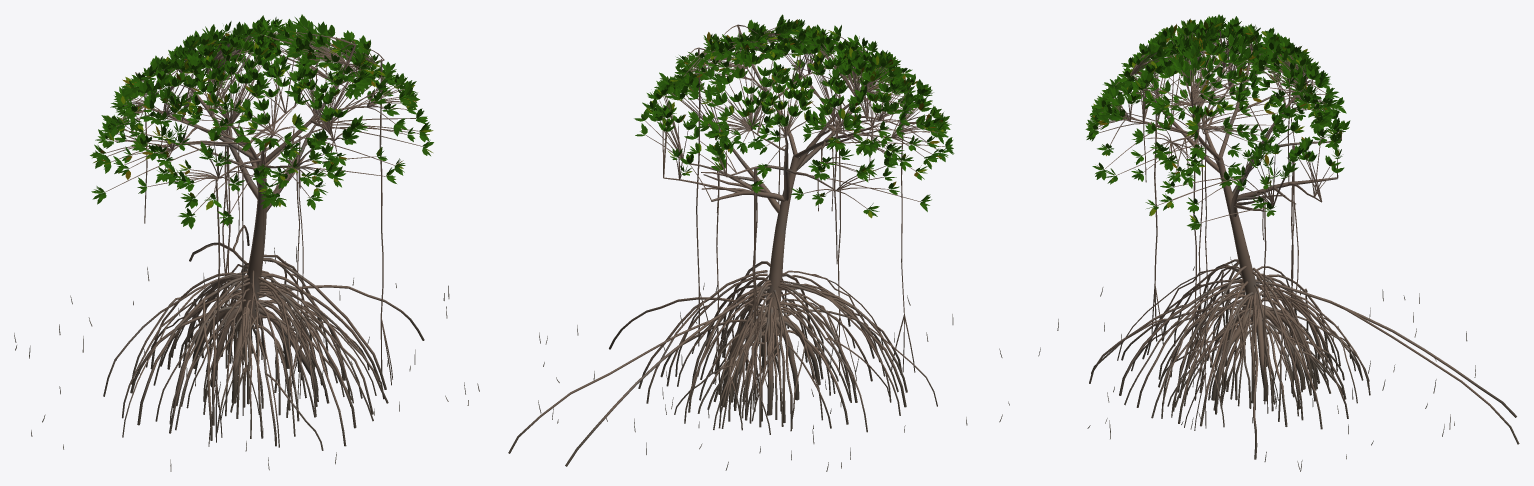
File: RedMangrove_12_MidForest.fbx
3 views of the same model, side by side, from view 1: azimuth 30°, elevation 25°; view 2: azimuth 150°, elevation 25°; view 3: azimuth 270°, elevation 25° (orthographic). The views are drawn at different scales.
Visible parts, largest first — view 1: RedMangrove_12_MidForest_LOD0; view 2: RedMangrove_12_MidForest_LOD0; view 3: RedMangrove_12_MidForest_LOD0.
Part boxes in pixels (x1=…): RedMangrove_12_MidForest_LOD0: x1=14, y1=14, x2=479, y2=471; RedMangrove_12_MidForest_LOD0: x1=508, y1=14, x2=1009, y2=471; RedMangrove_12_MidForest_LOD0: x1=1038, y1=14, x2=1519, y2=471.
Size of what is drawn, in the model's own units: 8.57 by 6.65 by 8.39.
